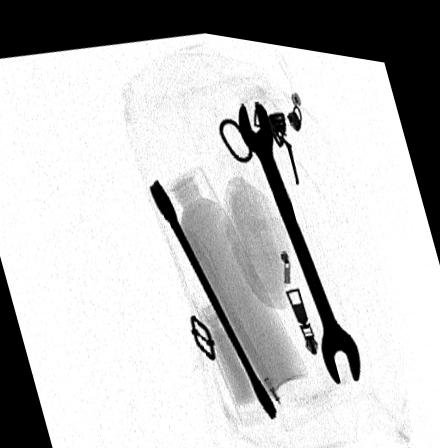Wrench: (236, 92, 359, 373), (148, 172, 279, 410)
